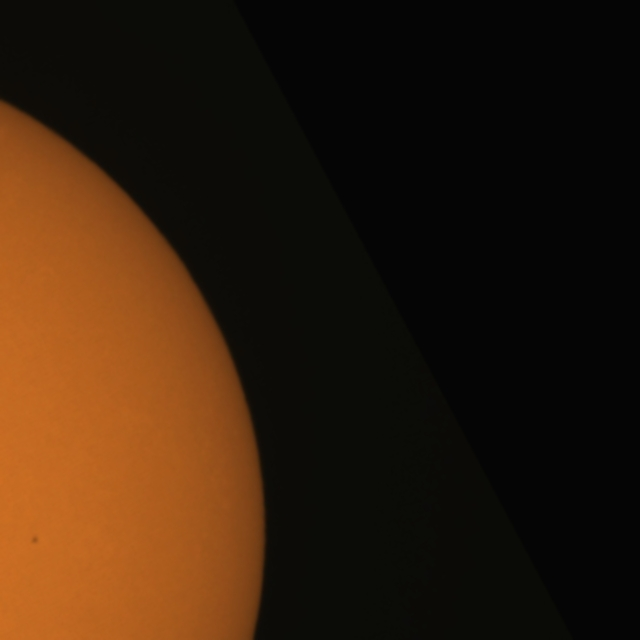sunspot: (29, 534, 41, 546)
